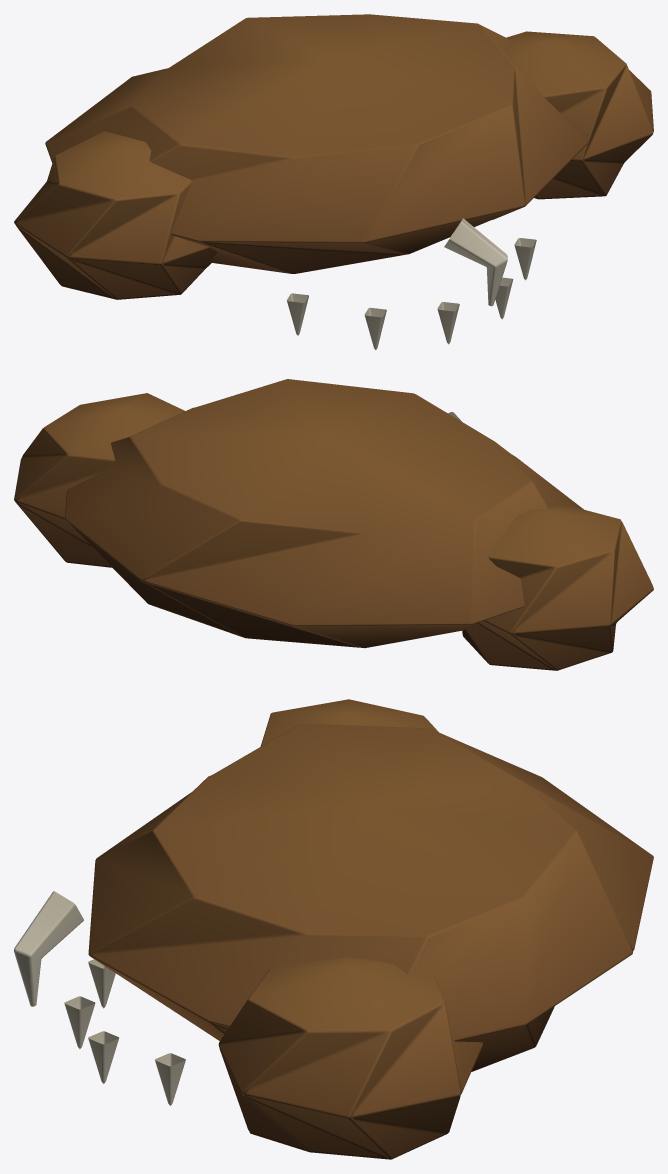
The model's file is beast_hide.glb.
3 views of the same model, one above another, from view 1: azimuth 30°, elevation 25°; view 2: azimuth 150°, elevation 25°; view 3: azimuth 270°, elevation 25° (orthographic). The views are drawn at different scales.
Visible parts, largest first — view 1: beast_hide; view 2: beast_hide; view 3: beast_hide.
Boxes of the visible parts, x1,y1,x2,y2 form: beast_hide: (14,14,653,350); beast_hide: (14,379,653,670); beast_hide: (14,699,653,1159).
Size of the model in its own units: 2.61 by 0.8154 by 1.93.
